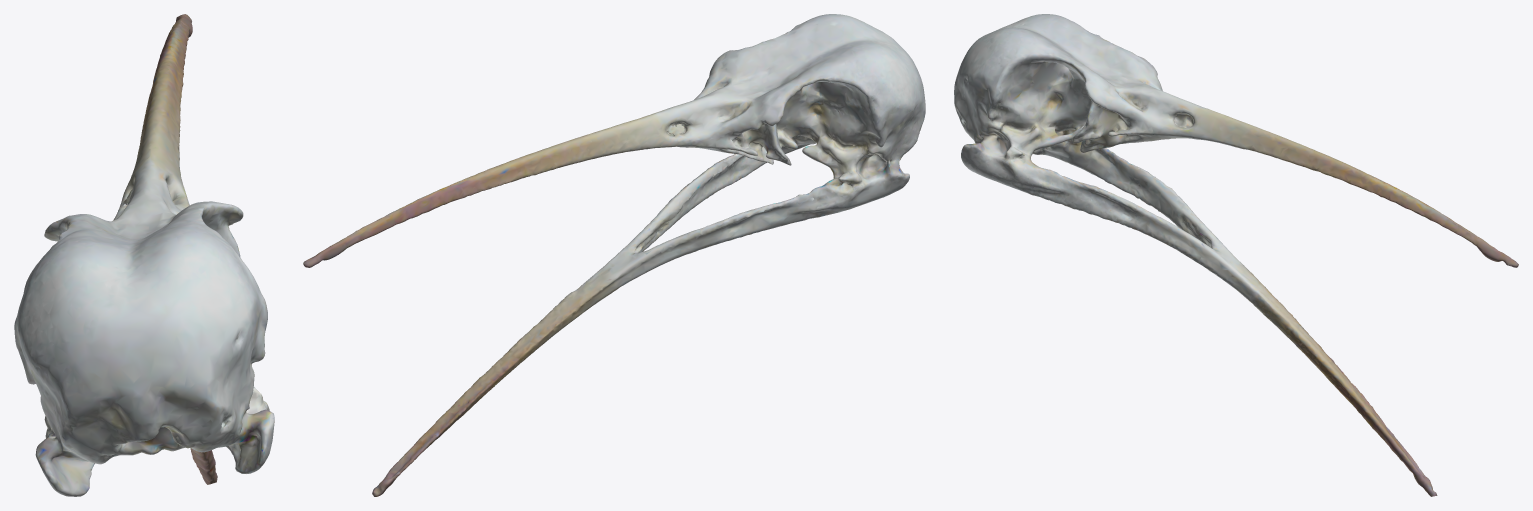
File: abubilla.glb
3 renders of one model, left to right at view 1: azimuth 30°, elevation 25°; view 2: azimuth 150°, elevation 25°; view 3: azimuth 270°, elevation 25°, orthographic. The views are drawn at different scales.
Visible parts, largest first — view 1: Object_2; view 2: Object_2; view 3: Object_2.
Part boxes in pixels (bbox=[...]): Object_2: bbox=[14, 14, 274, 496]; Object_2: bbox=[303, 14, 925, 496]; Object_2: bbox=[954, 14, 1518, 496].
Size of the model in its own units: 47.46 by 48.11 by 69.19.
